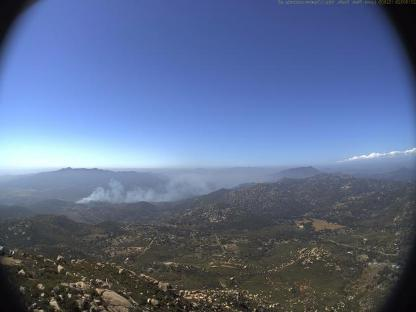smoke: (76, 159, 226, 206)
